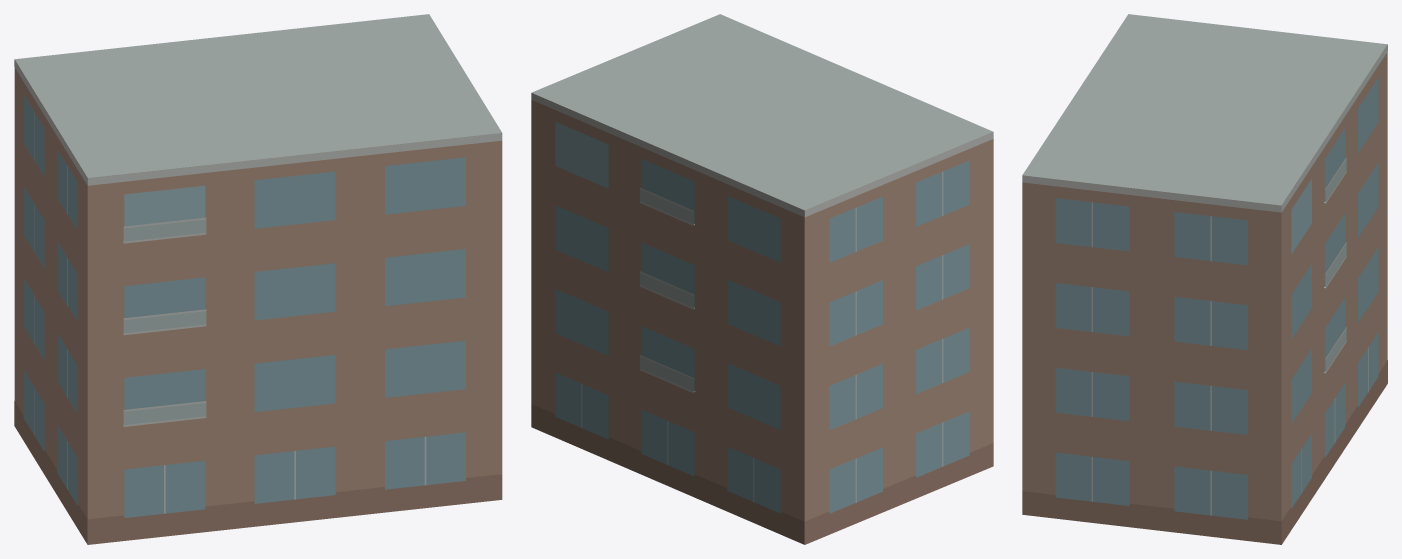
The model's file is survey-upis-32951709.glb.
3 renders of one model, left to right at view 1: azimuth 30°, elevation 25°; view 2: azimuth 150°, elevation 25°; view 3: azimuth 270°, elevation 25°, orthographic. The views are drawn at different scales.
Parts seen in each view (by area): view 1: survey-upis-32951709.tmp; view 2: survey-upis-32951709.tmp; view 3: survey-upis-32951709.tmp.
Part boxes in pixels (x1,y1,x2,y2): survey-upis-32951709.tmp: [14, 14, 502, 544]; survey-upis-32951709.tmp: [531, 14, 993, 544]; survey-upis-32951709.tmp: [1022, 14, 1387, 544].
Size of the model in its own units: 14.17 by 11.7 by 11.43.
